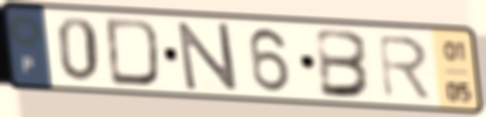0: (54, 15, 101, 85)
6: (246, 25, 293, 96)
B: (313, 26, 375, 101)
D: (102, 16, 164, 90)
N: (174, 20, 242, 93)
R: (374, 33, 435, 102)
